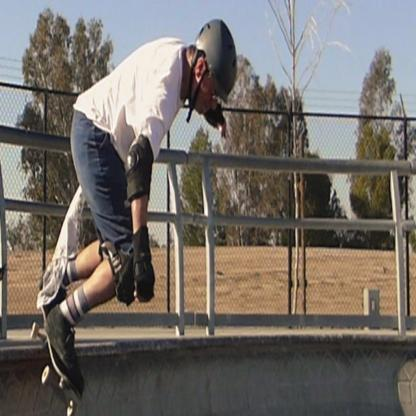Helmet: (193, 19, 238, 97)
